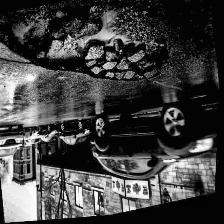pothole: (0, 0, 176, 114)
